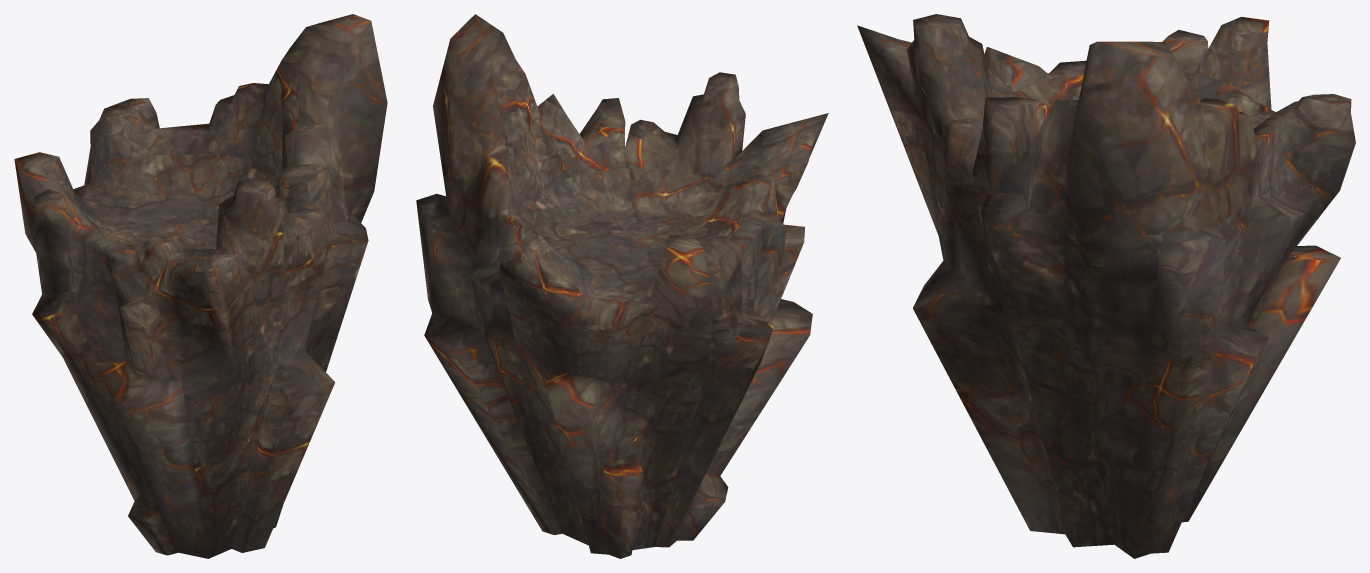
The model's file is S_Rock_Black014.FBX.
The picture shows the model from 3 angles, left to right: view 1: azimuth 30°, elevation 25°; view 2: azimuth 150°, elevation 25°; view 3: azimuth 270°, elevation 25°; orthographic projection. The views are drawn at different scales.
Parts seen in each view (by area): view 1: S_Rock_Black014; view 2: S_Rock_Black014; view 3: S_Rock_Black014.
Part boxes in pixels (x1,y1,x2,y2): S_Rock_Black014: (14,14,387,558); S_Rock_Black014: (416,14,828,558); S_Rock_Black014: (857,14,1355,558).
Bounding box in the file's own units: 993 × 1052 × 1329.
